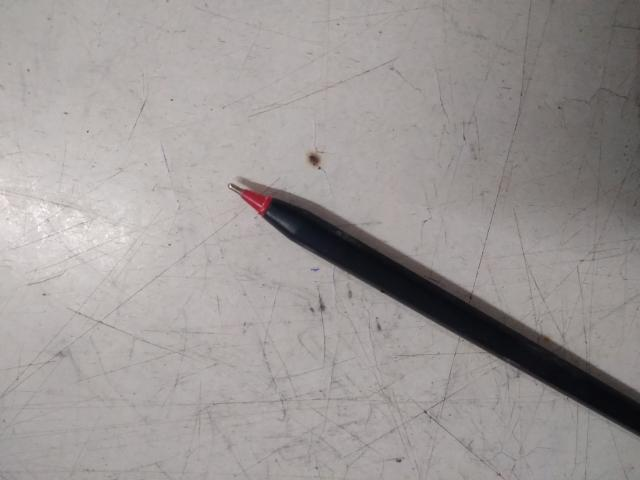PEN: (41, 200, 308, 480)
